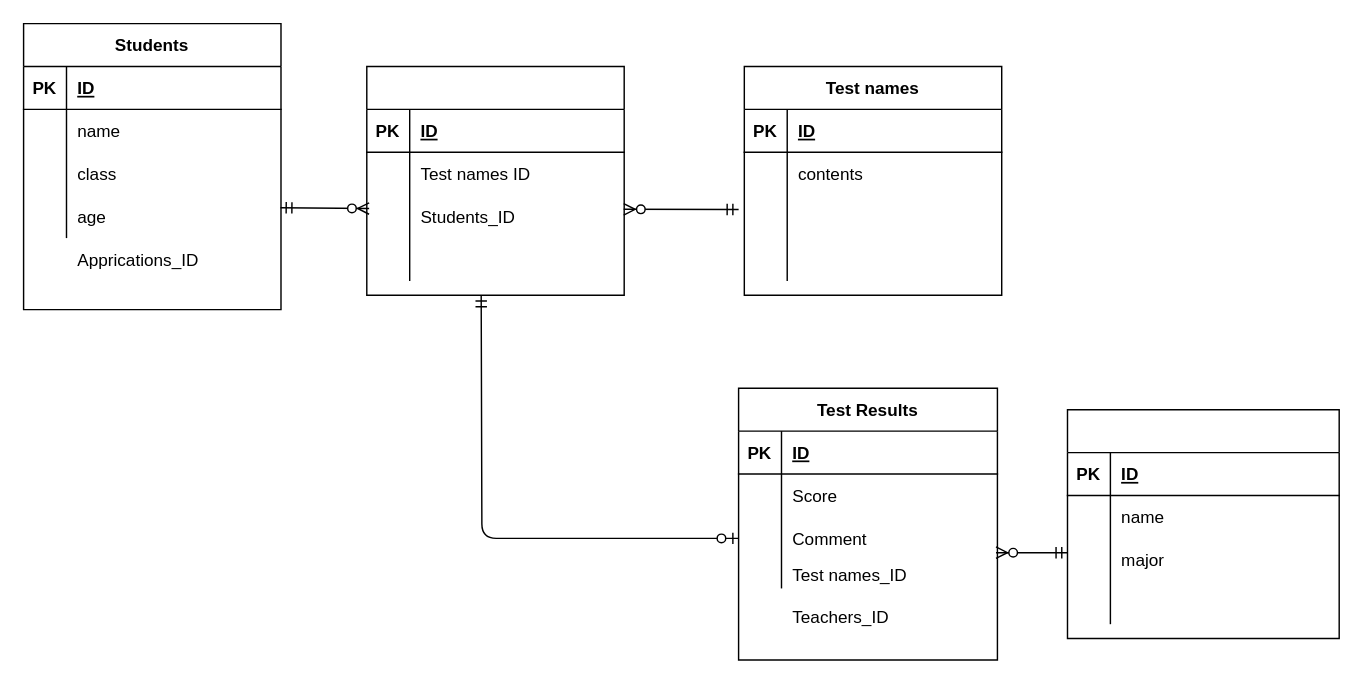
Some shapes in this 1363 by 684 pixel diagram are drawn without their labels. Each missing label, with the box of its shape:
Applications: (365, 65, 624, 295)
Teachers: (1066, 408, 1339, 638)
